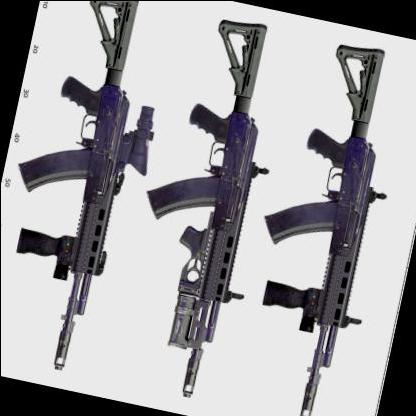rifle: (100, 2, 292, 403), (223, 34, 416, 416), (0, 0, 179, 387)
